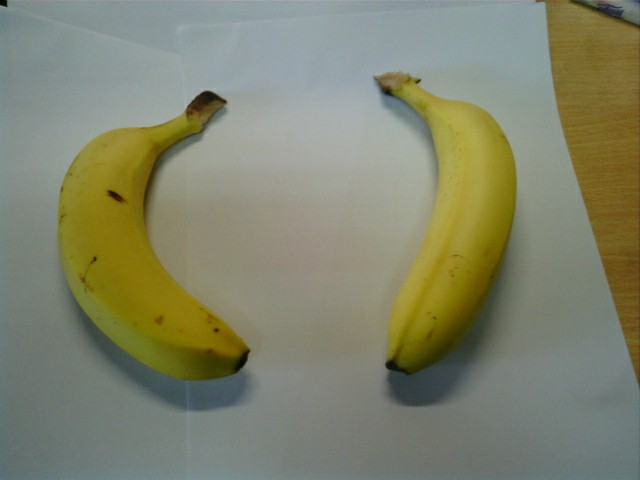fresh_banana: (370, 67, 518, 378)
normal_banana: (58, 91, 245, 380)
